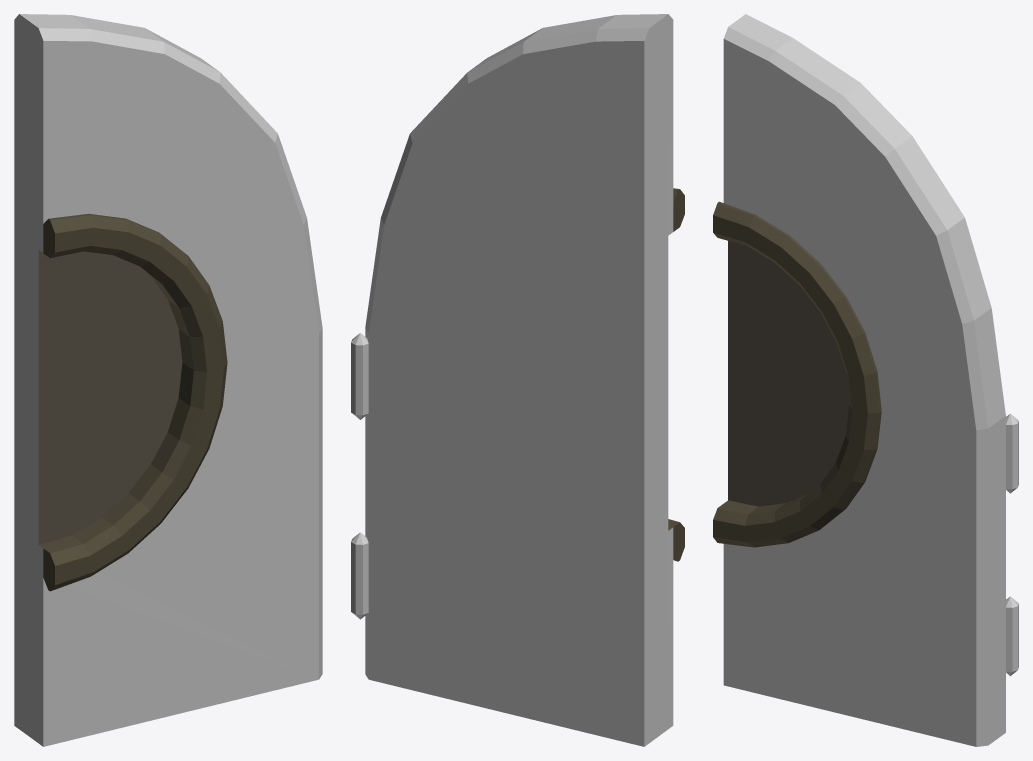
Rendered from EVT_MAINHALL_DOOR_RIGHT_01.OBJ.
3 renders of one model, left to right at view 1: azimuth 30°, elevation 25°; view 2: azimuth 150°, elevation 25°; view 3: azimuth 330°, elevation 25°, orthographic. The views are drawn at different scales.
Visible parts, largest first — view 1: EVT_MAINHALL_DOOR_RIGHT_01; view 2: EVT_MAINHALL_DOOR_RIGHT_01; view 3: EVT_MAINHALL_DOOR_RIGHT_01.
Part boxes in pixels (x1=…): EVT_MAINHALL_DOOR_RIGHT_01: x1=14, y1=14, x2=322, y2=746; EVT_MAINHALL_DOOR_RIGHT_01: x1=351, y1=14, x2=684, y2=746; EVT_MAINHALL_DOOR_RIGHT_01: x1=713, y1=14, x2=1018, y2=746.
Bounding box in the file's own units: 1.75 × 4.09 × 0.4705.
